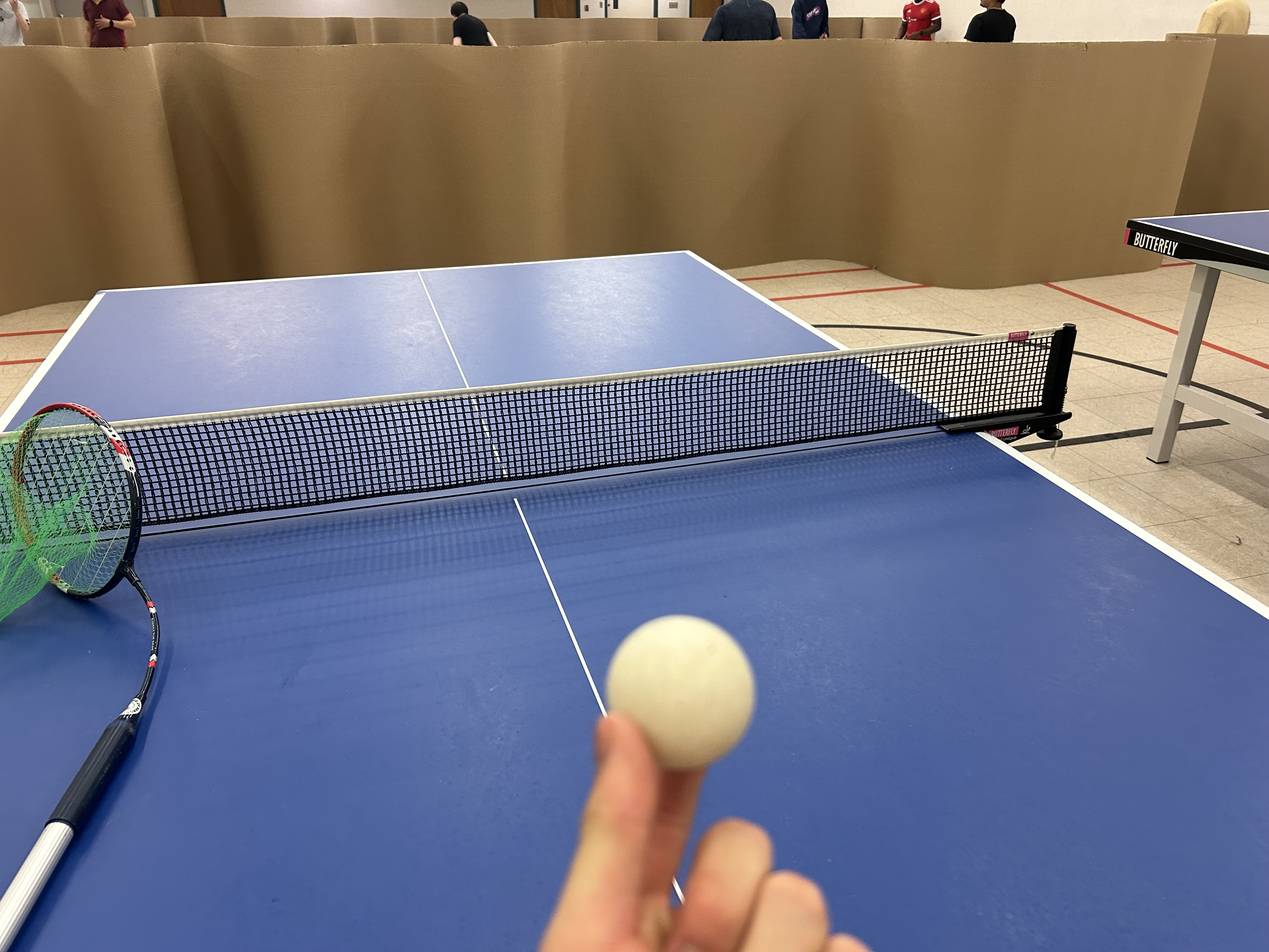Ball: (585, 611, 763, 765)
